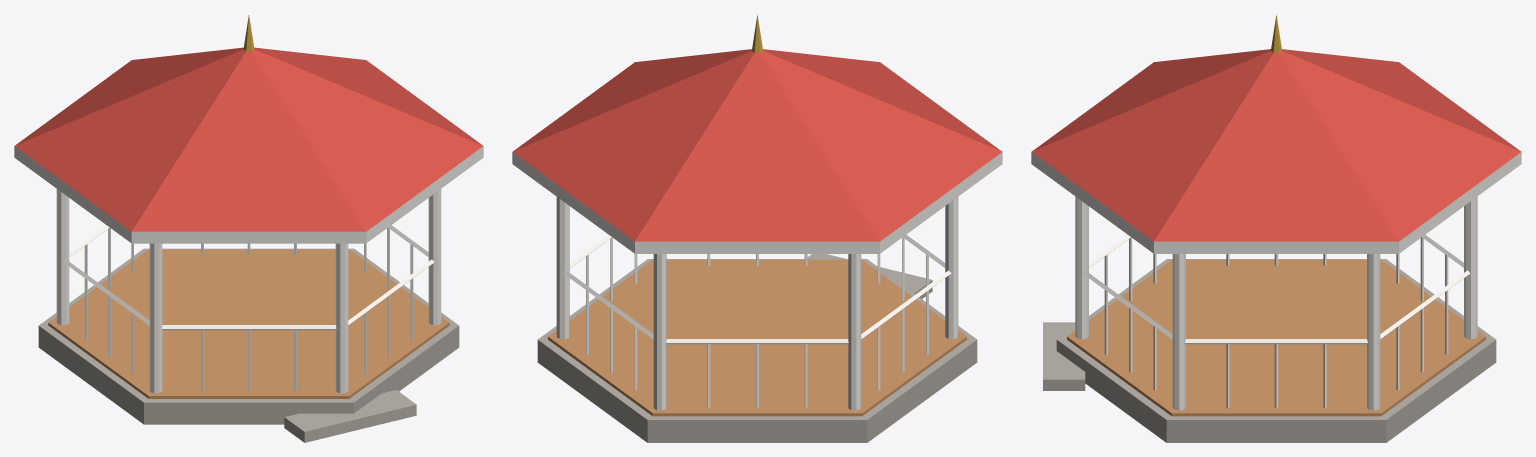
Rendered from gazebo.glb.
3 renders of one model, left to right at view 1: azimuth 30°, elevation 25°; view 2: azimuth 150°, elevation 25°; view 3: azimuth 270°, elevation 25°, orthographic. The views are drawn at different scales.
Parts seen in each view (by area): view 1: gazebo; view 2: gazebo; view 3: gazebo.
Boxes of the visible parts, left/top/right/bottom form: gazebo: left=14, top=15, right=483, bottom=442; gazebo: left=512, top=14, right=1002, bottom=442; gazebo: left=1031, top=14, right=1521, bottom=442.
Bounding box in the file's own units: 5.02 × 4.55 × 5.8.
